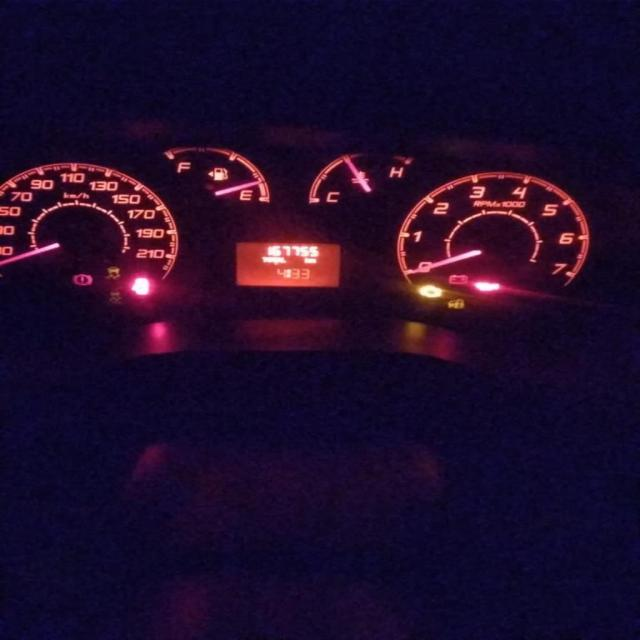odometer: (229, 238, 343, 289)
